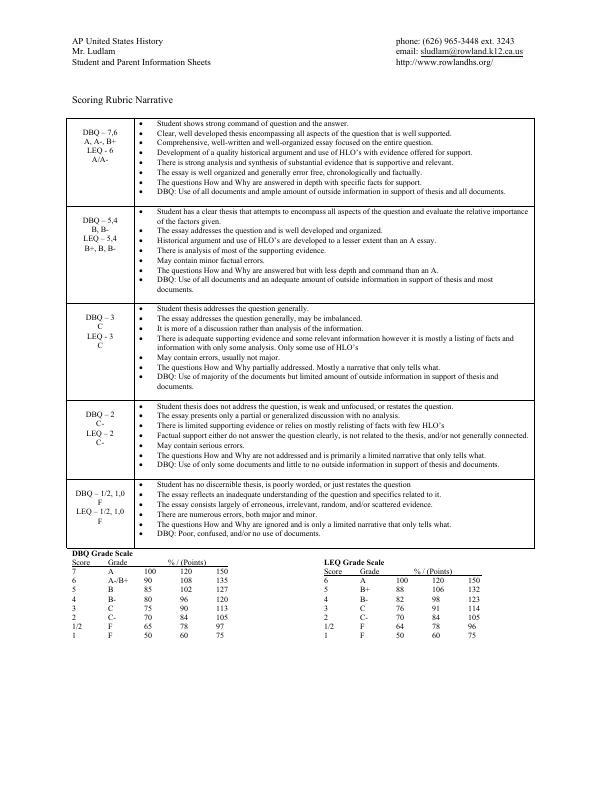table: (63, 116, 540, 550), (67, 550, 245, 647), (322, 555, 486, 653)
text: (68, 34, 215, 74), (390, 35, 531, 73), (67, 90, 175, 107)
